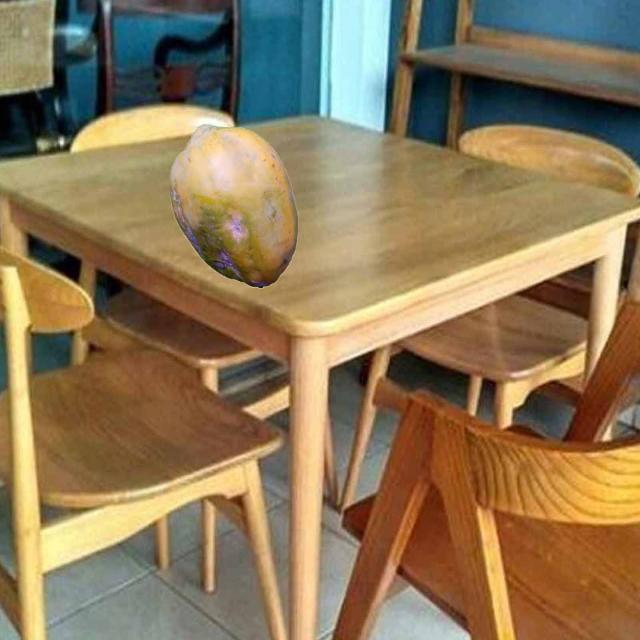Pepaya rippen: (168, 105, 302, 295)
